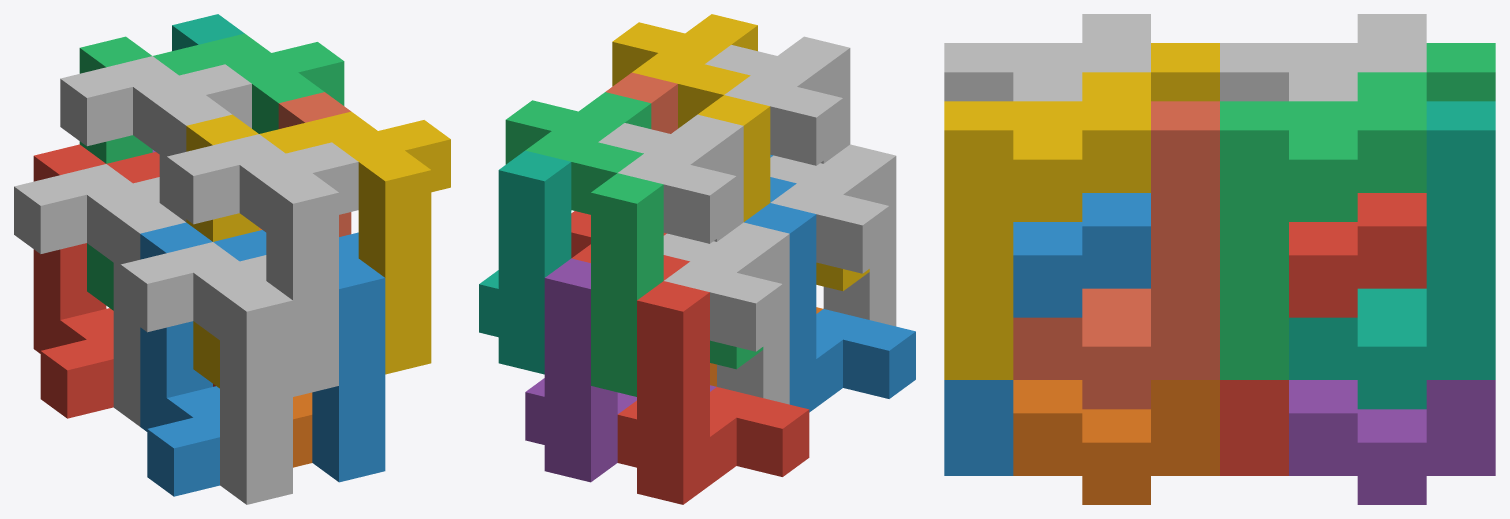
File: tiling.obj
The picture shows the model from 3 angles, left to right: view 1: azimuth 30°, elevation 25°; view 2: azimuth 150°, elevation 25°; view 3: azimuth 270°, elevation 25°; orthographic projection. The views are drawn at different scales.
Parts seen in each view (by area): view 1: copy_2_domain_2, copy_2_domain_4, copy_2_domain_8, copy_2_domain_1, copy_2_domain_6, copy_2_domain_3, copy_1_domain_1, copy_1_domain_2, copy_2_domain_7, copy_1_domain_3, copy_1_domain_4, copy_1_domain_8 (+3 smaller); view 2: copy_1_domain_1, copy_2_domain_2, copy_2_domain_1, copy_1_domain_7, copy_1_domain_2, copy_1_domain_3, copy_1_domain_5, copy_2_domain_4, copy_2_domain_3, copy_2_domain_7, copy_2_domain_8, copy_1_domain_4 (+2 smaller); view 3: copy_2_domain_8, copy_2_domain_7, copy_1_domain_7, copy_1_domain_8, copy_2_domain_6, copy_1_domain_5, copy_1_domain_6, copy_2_domain_5, copy_2_domain_3, copy_2_domain_4, copy_1_domain_3, copy_1_domain_4.
Part boxes in pixels (<box>): copy_2_domain_2: <box>120,242,292,504</box>; copy_2_domain_4: <box>166,134,358,396</box>; copy_2_domain_8: <box>259,111,450,374</box>; copy_2_domain_1: <box>14,164,185,426</box>; copy_2_domain_6: <box>213,230,385,482</box>; copy_2_domain_3: <box>60,56,251,221</box>; copy_1_domain_1: <box>33,144,113,418</box>; copy_1_domain_2: <box>140,222,219,496</box>; copy_2_domain_7: <box>153,33,344,133</box>; copy_1_domain_3: <box>79,36,152,310</box>; copy_1_domain_4: <box>186,114,258,388</box>; copy_1_domain_8: <box>278,92,351,236</box>; copy_1_domain_1: <box>617,281,809,504</box>; copy_2_domain_2: <box>770,144,896,326</box>; copy_2_domain_1: <box>663,222,789,404</box>; copy_1_domain_7: <box>479,150,571,374</box>; copy_1_domain_2: <box>744,203,915,412</box>; copy_1_domain_3: <box>591,173,763,396</box>; copy_1_domain_5: <box>525,258,716,482</box>; copy_2_domain_4: <box>705,36,850,165</box>; copy_2_domain_3: <box>598,114,743,243</box>; copy_2_domain_7: <box>505,92,651,214</box>; copy_2_domain_8: <box>612,14,757,128</box>; copy_1_domain_4: <box>698,95,869,290</box>; copy_2_domain_8: <box>944,72,1150,379</box>; copy_2_domain_7: <box>1220,72,1426,379</box>; copy_1_domain_7: <box>1289,101,1495,409</box>; copy_1_domain_8: <box>1013,101,1219,409</box>; copy_2_domain_6: <box>944,193,1150,475</box>; copy_1_domain_5: <box>1289,380,1495,504</box>; copy_1_domain_6: <box>1013,380,1219,504</box>; copy_2_domain_5: <box>1220,193,1426,475</box>; copy_2_domain_3: <box>1220,14,1426,101</box>; copy_2_domain_4: <box>944,14,1150,101</box>; copy_1_domain_3: <box>1426,43,1495,101</box>; copy_1_domain_4: <box>1151,43,1219,101</box>.
Size of the model in its own units: 6 by 6 by 8.
